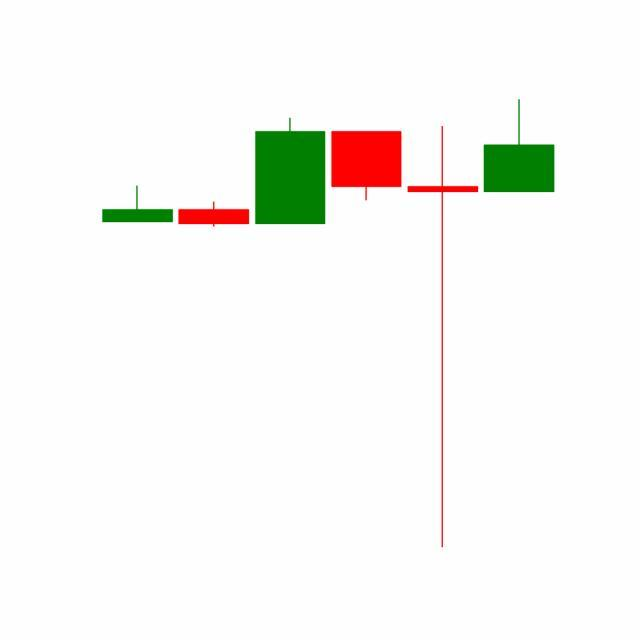Spinning Top: (404, 122, 482, 553)
